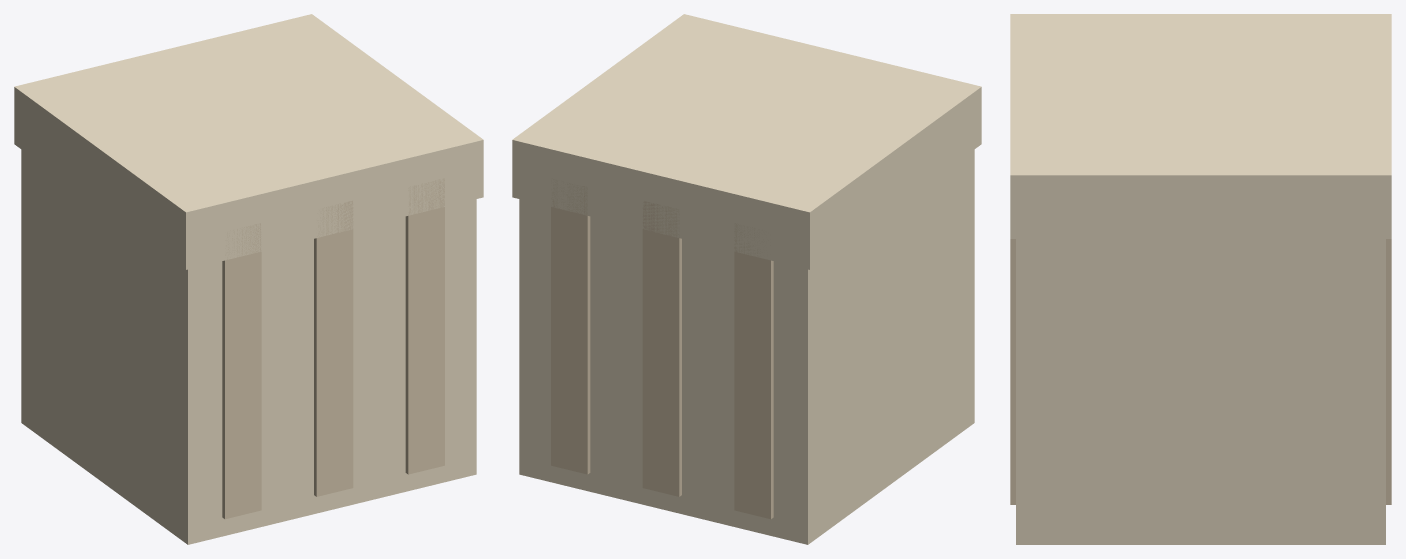
Rendered from sueter_manga_sup.glb.
3 views of the same model, side by side, from view 1: azimuth 30°, elevation 25°; view 2: azimuth 150°, elevation 25°; view 3: azimuth 270°, elevation 25° (orthographic). The views are drawn at different scales.
Visible parts, largest first — view 1: sueter_manga_sup; view 2: sueter_manga_sup; view 3: sueter_manga_sup.
Boxes of the visible parts, bbox=[...] form: sueter_manga_sup: bbox=[14, 14, 483, 544]; sueter_manga_sup: bbox=[512, 14, 981, 544]; sueter_manga_sup: bbox=[1010, 14, 1391, 544].
Size of the model in its own units: 0.325 by 0.35 by 0.325.
